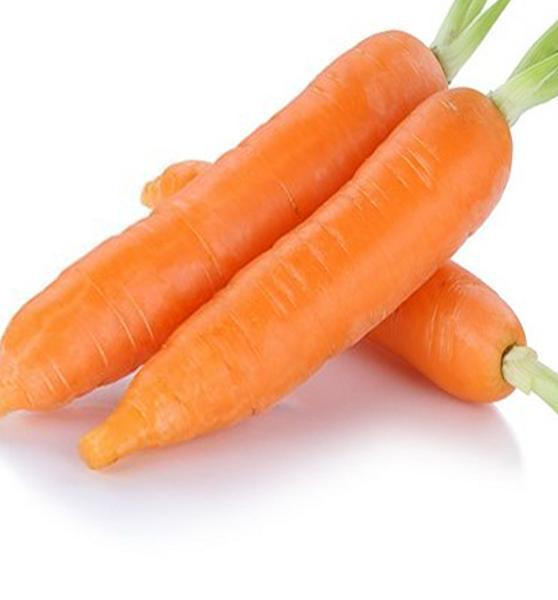carrot: (0, 25, 558, 478)
